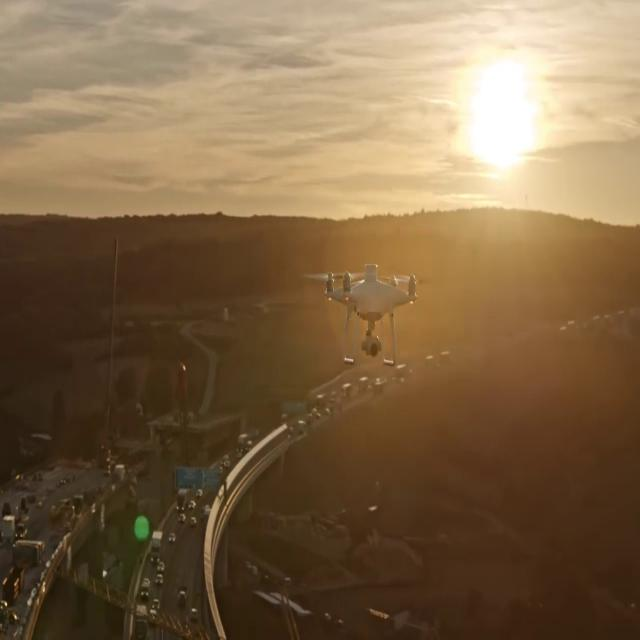drone: (302, 256, 425, 371)
